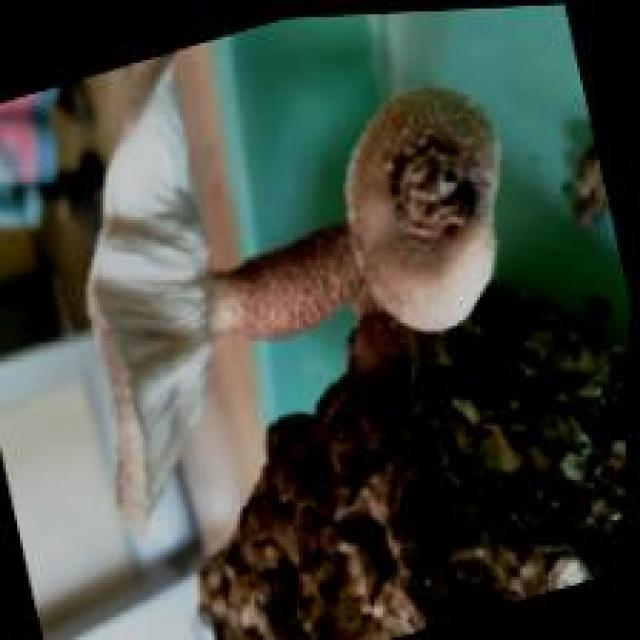death-cap: (343, 83, 506, 334)
